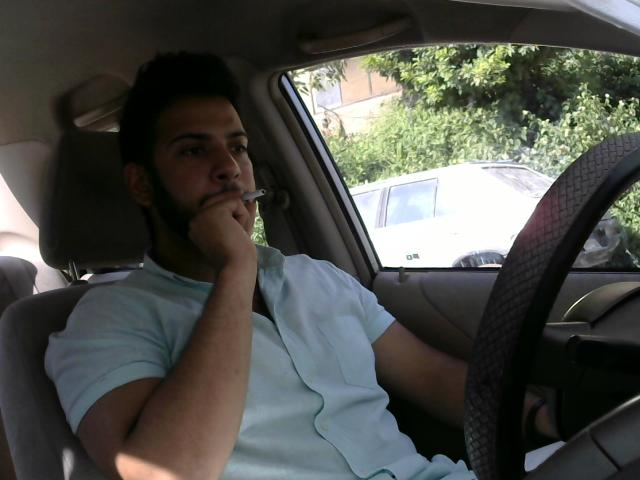Smoking: (228, 185, 272, 206)
